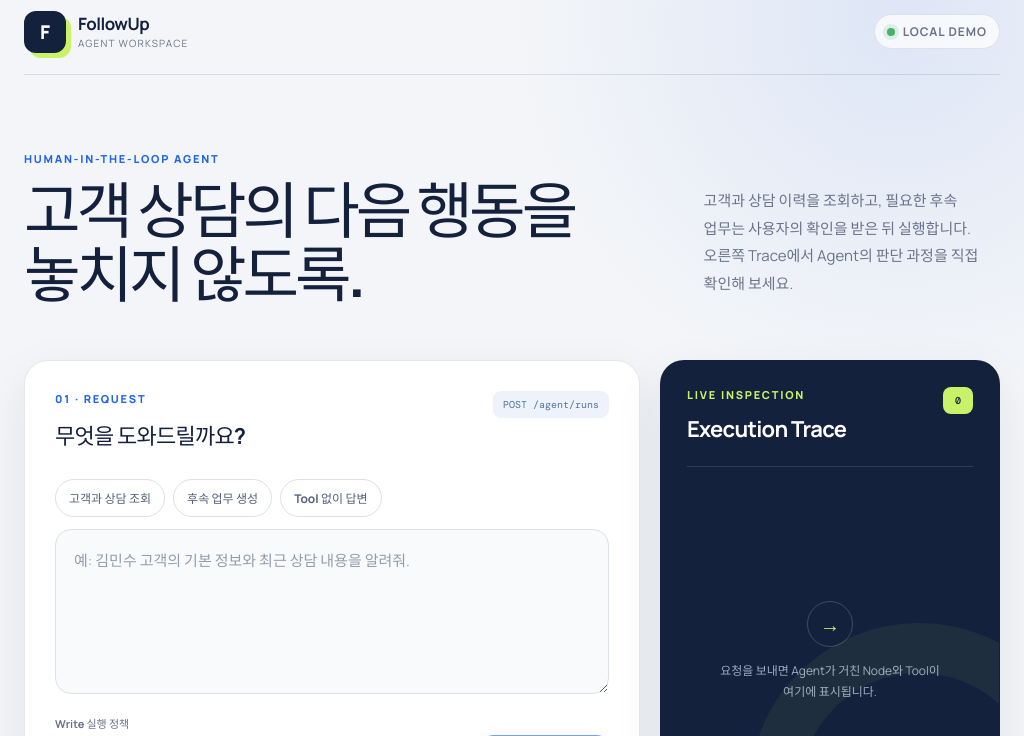
it: App › 승인 대기 요청을 승인해 Workflow를 재개한다
This screenshot has width=1024, height=736.
Type "김민수 고객 후속 업무를 생성해줘." into the text box named "Agent에게 요청할 내용" at (332, 612), box 55,529 -> 609,694
(page scrolled)
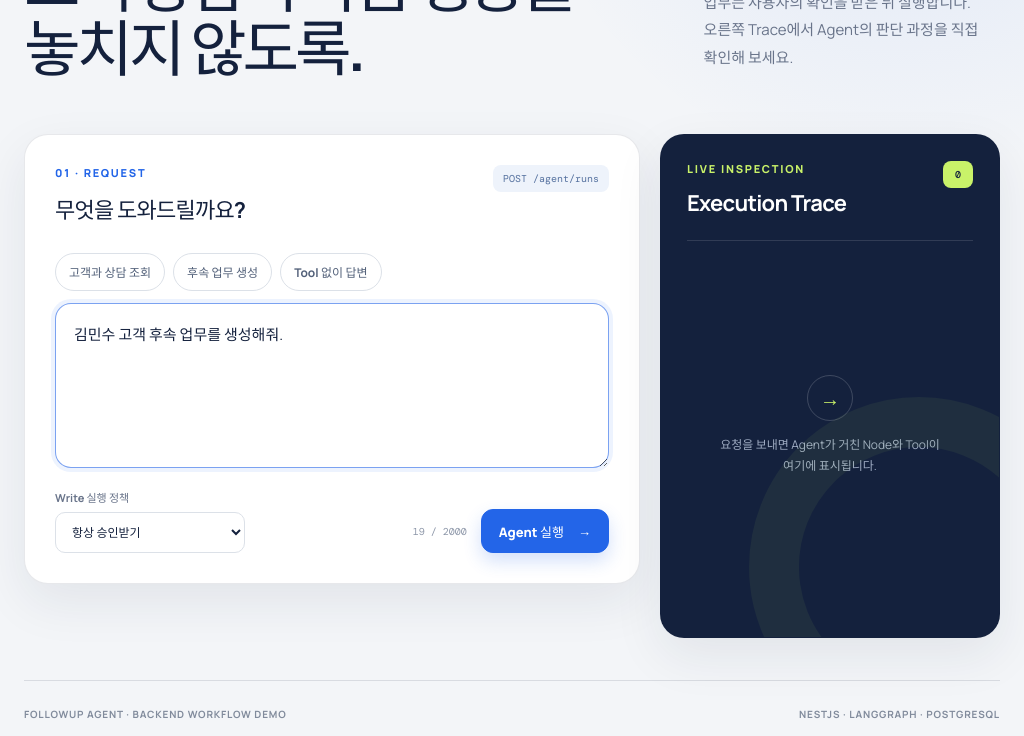
Click the button "Agent 실행 →" at (545, 531), box 481,509 -> 609,553
(page scrolled)
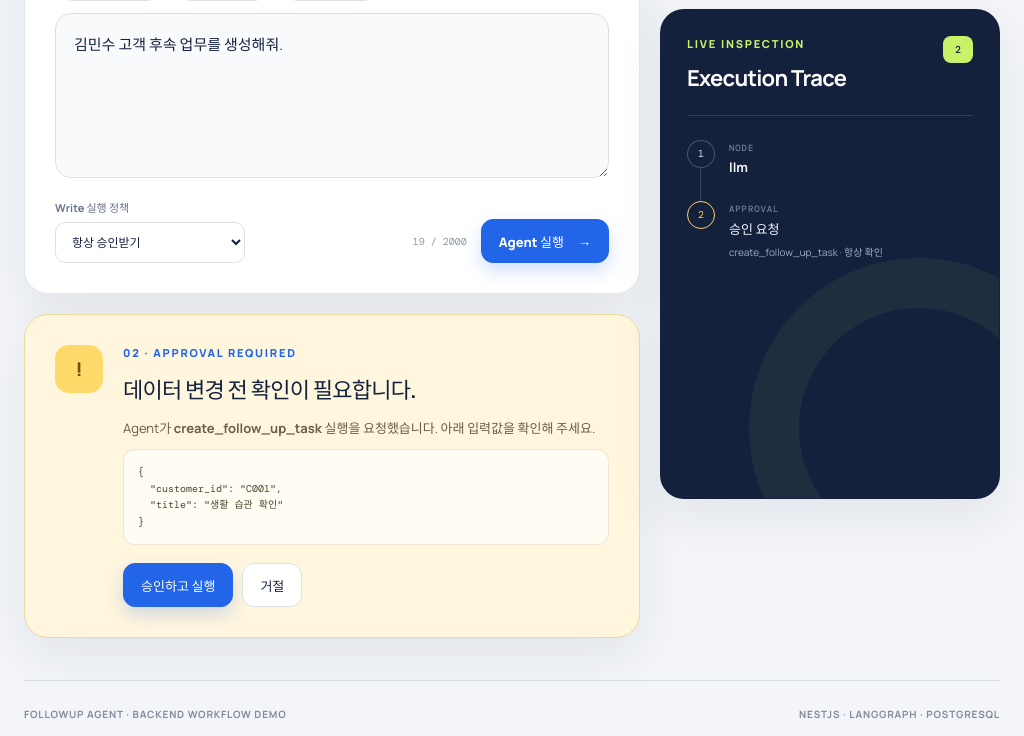
Expected: the heading "데이터 변경 전 확인이 필요합니다." is shown, 123,375 -> 416,405
Expected: the text "{ \"customer_id\": \"C001\", \"title\": \"생활 습관 확인\" }" is shown, 123,449 -> 609,545
Click the button "승인하고 실행" at (178, 585), box 123,563 -> 233,607
(page scrolled)
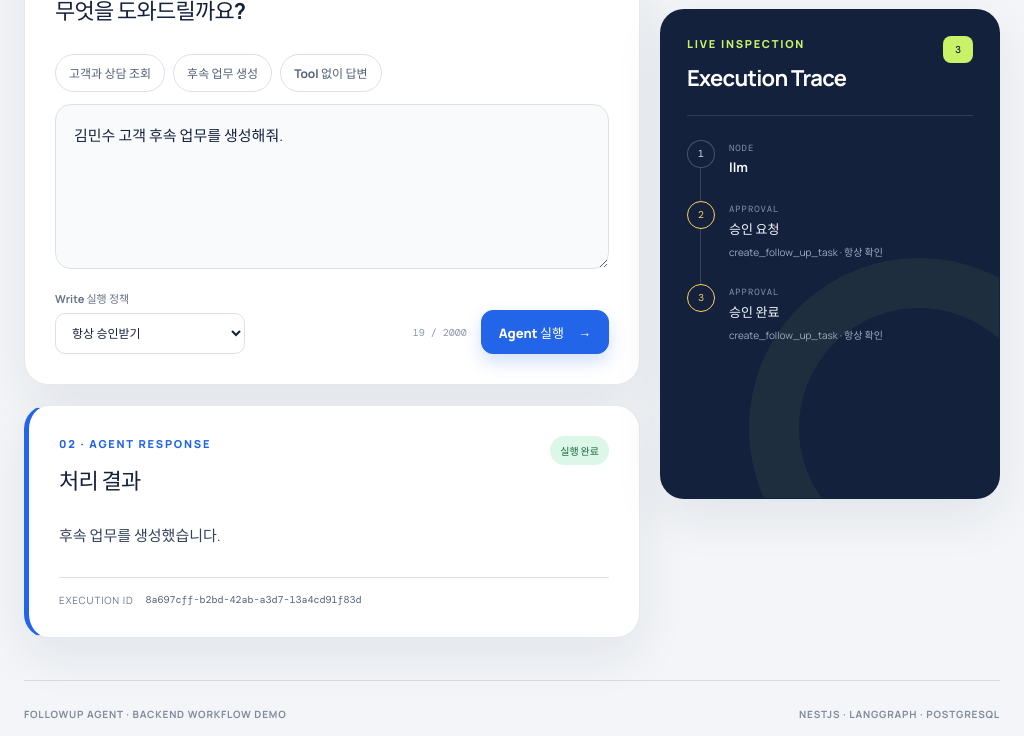
Expected: the text "후속 업무를 생성했습니다." is shown, 59,525 -> 221,546
